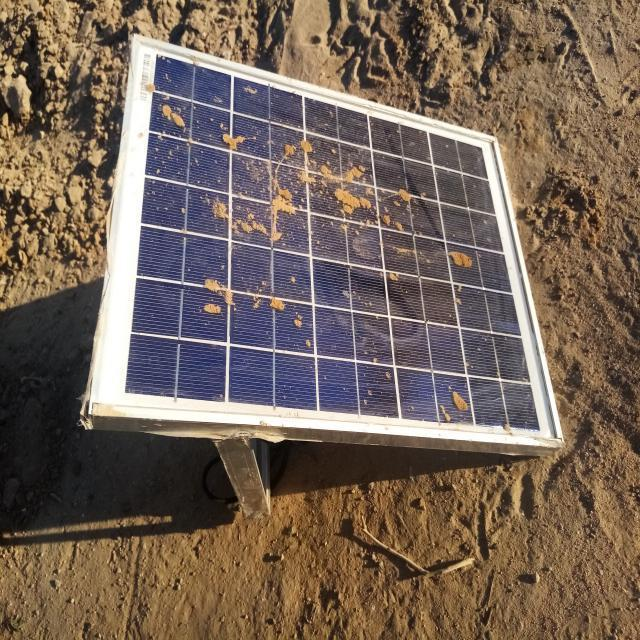Anomaly Solar Panel: (105, 47, 550, 438)
Surface Contaminant: (126, 76, 492, 361)
